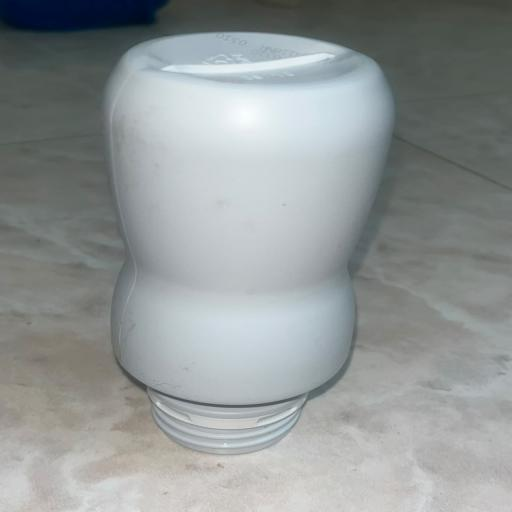HDPE: (35, 4, 432, 501)
